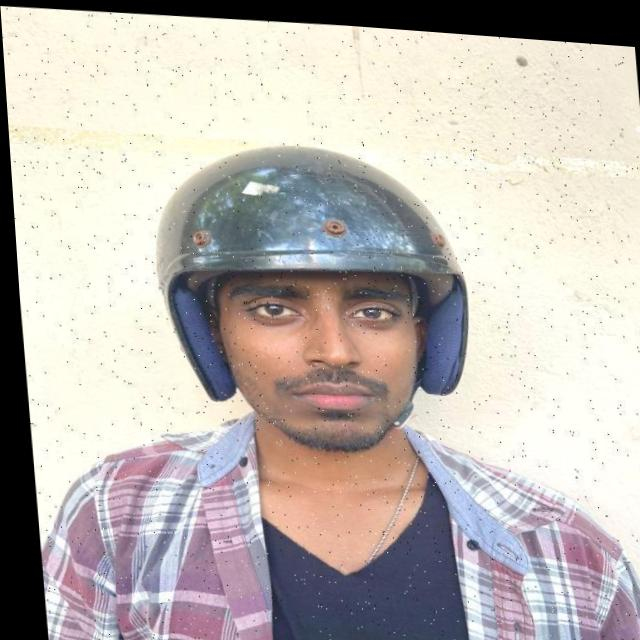helmet: (142, 130, 476, 457)
